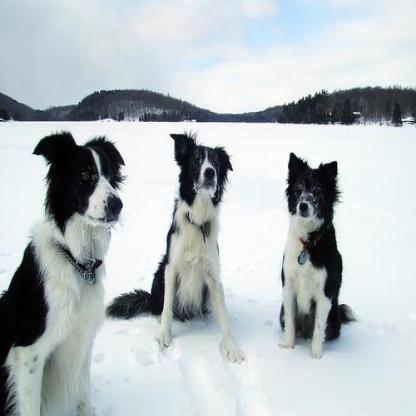Border_collie: (0, 125, 130, 414), (103, 128, 239, 360), (278, 149, 355, 357)
